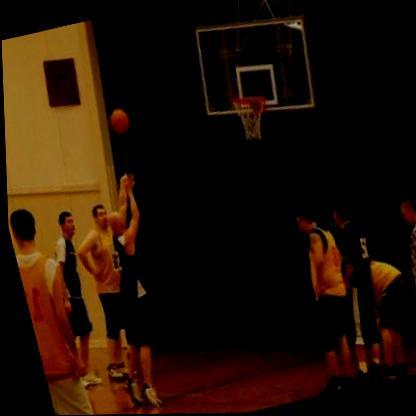basketball: (101, 101, 136, 140)
rim: (221, 91, 275, 147)
